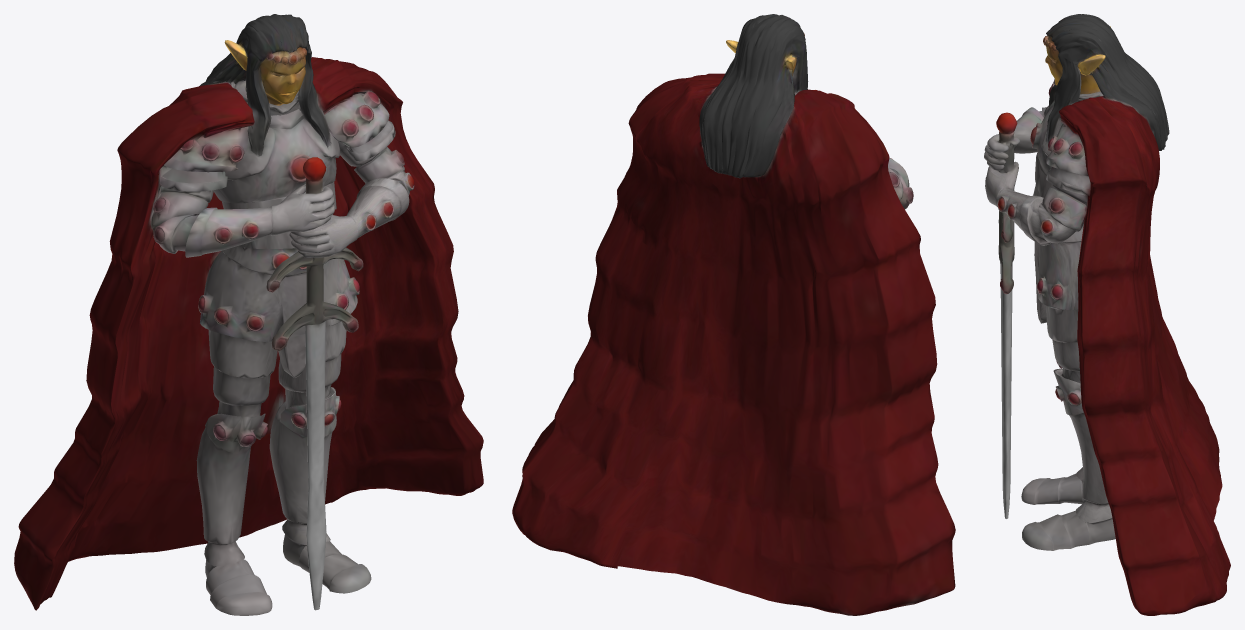
File: MZ4250 - Githyanki Supreme Commander.glb
3 views of the same model, side by side, from view 1: azimuth 30°, elevation 25°; view 2: azimuth 150°, elevation 25°; view 3: azimuth 270°, elevation 25° (orthographic). The views are drawn at different scales.
Parts seen in each view (by area): view 1: default; view 2: default; view 3: default.
Part boxes in pixels (x1=…): default: x1=14, y1=14, x2=483, y2=615; default: x1=512, y1=14, x2=955, y2=615; default: x1=984, y1=14, x2=1230, y2=615.
Size of the model in its own units: 0.8619 by 1.02 by 0.451.
1 material, 1 textured.
